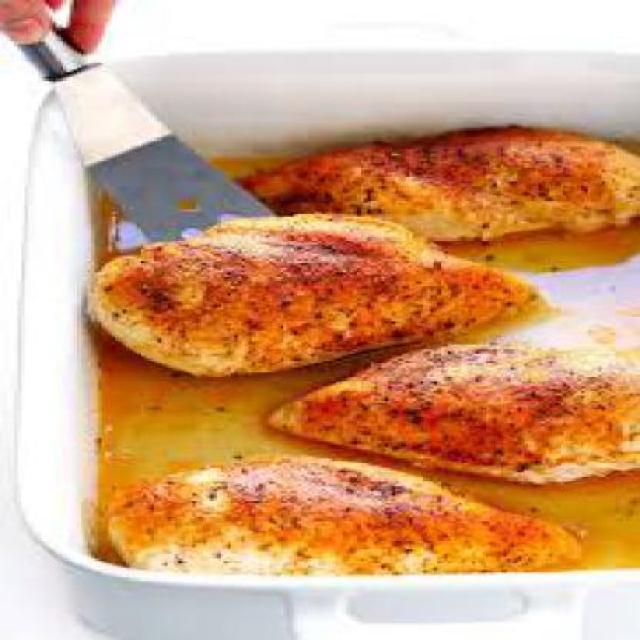Frango: (77, 123, 629, 577)
